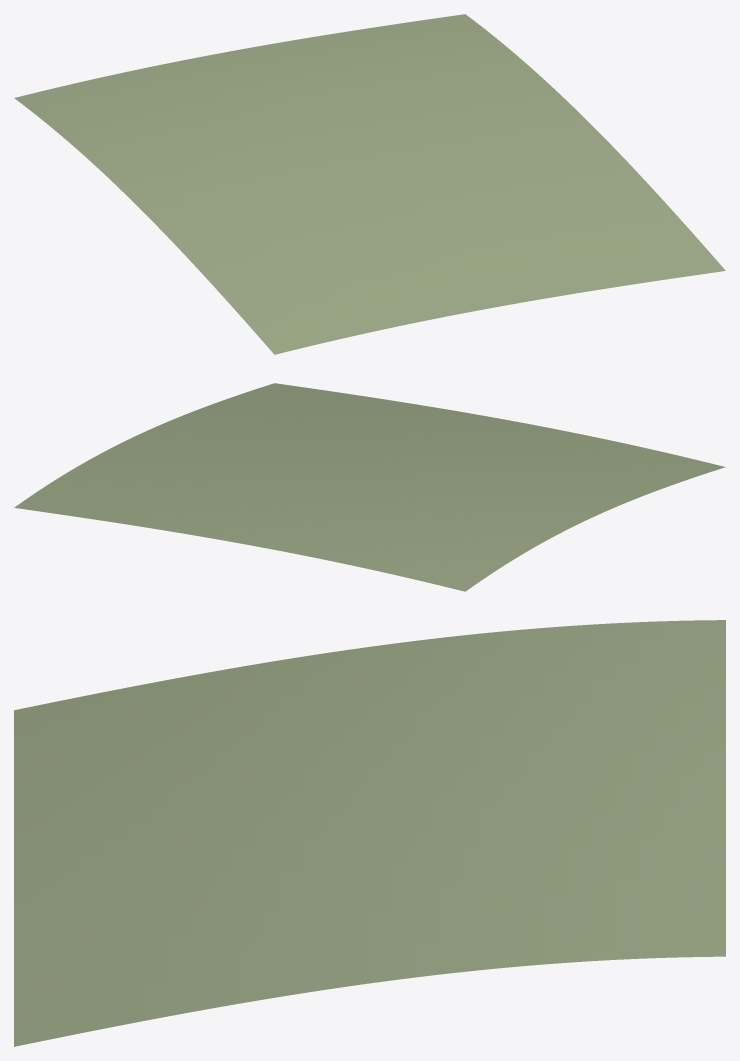
Rendered from valley-11-1.glb.
3 renders of one model, top to bottom at view 1: azimuth 30°, elevation 25°; view 2: azimuth 150°, elevation 25°; view 3: azimuth 270°, elevation 25°, orthographic. The views are drawn at different scales.
Parts seen in each view (by area): view 1: valley-11-1; view 2: valley-11-1; view 3: valley-11-1.
Part boxes in pixels (x1,y1,x2,y2): valley-11-1: [14, 14, 725, 354]; valley-11-1: [14, 383, 725, 591]; valley-11-1: [14, 620, 725, 1046].
Bounding box in the file's own units: 256 × 50.01 × 256.
